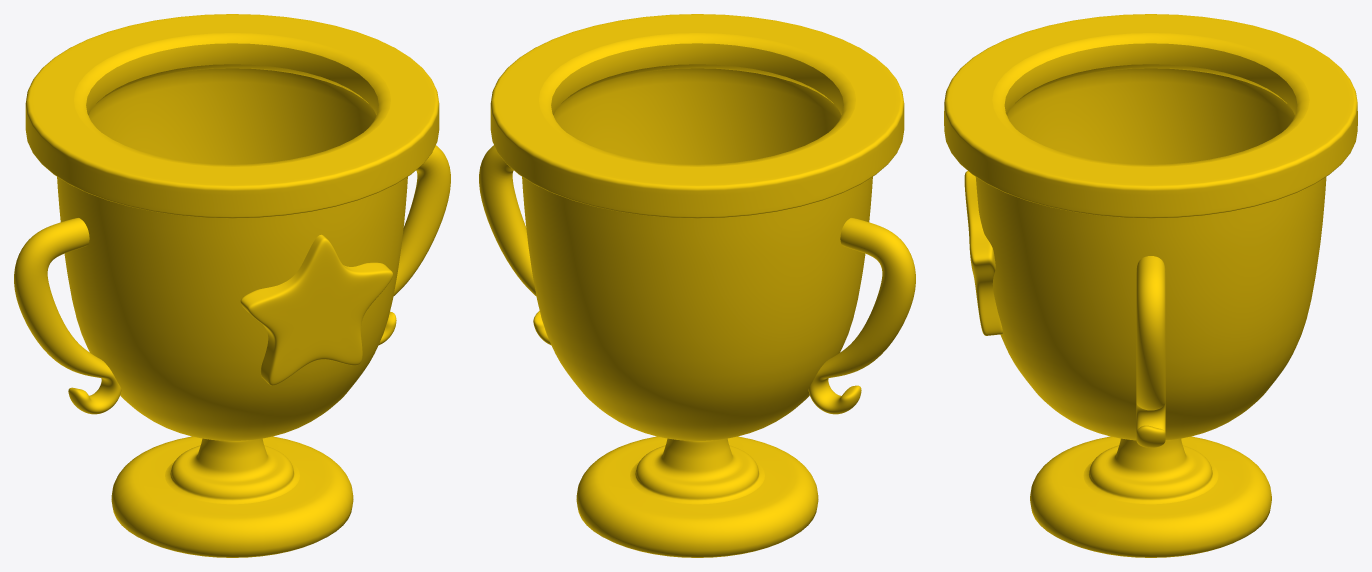
The model's file is trophy.glb.
3 renders of one model, left to right at view 1: azimuth 30°, elevation 25°; view 2: azimuth 150°, elevation 25°; view 3: azimuth 270°, elevation 25°, orthographic.
Visible parts, largest first — view 1: Trophy; view 2: Trophy; view 3: Trophy.
Part boxes in pixels (left/top/right/bottom): Trophy: left=14, top=14, right=450, bottom=557; Trophy: left=479, top=14, right=915, bottom=557; Trophy: left=944, top=14, right=1357, bottom=557.
Size of the model in its own units: 0.9207 by 0.8417 by 0.7612.
